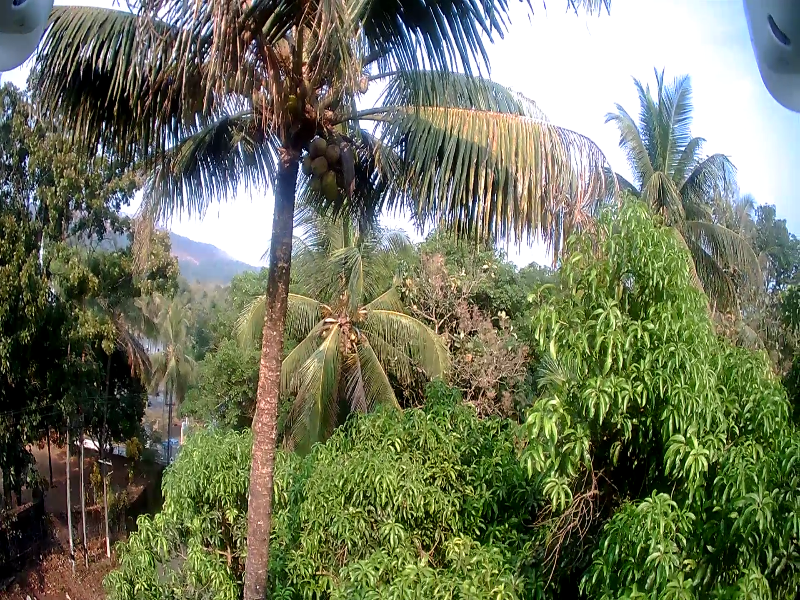coconut: (308, 135, 325, 153), (296, 156, 314, 173), (320, 145, 338, 160), (306, 175, 321, 192), (358, 74, 368, 95), (310, 156, 321, 170), (322, 173, 329, 187)
